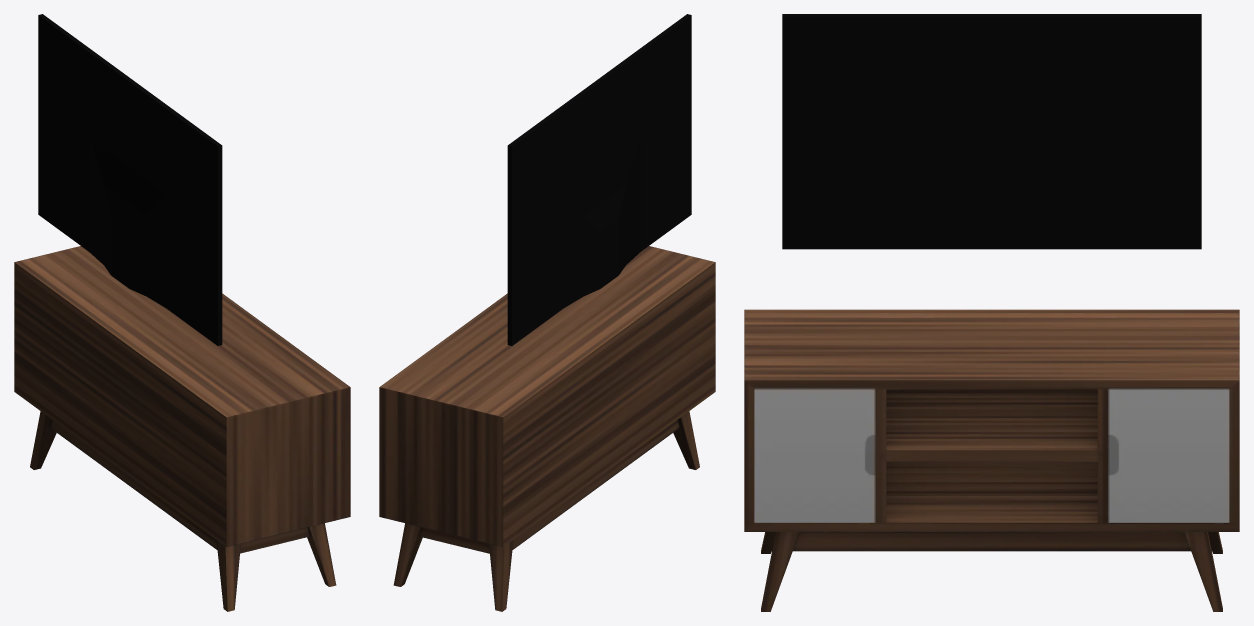
File: tv_stand03.glb
3 views of the same model, side by side, from view 1: azimuth 30°, elevation 25°; view 2: azimuth 150°, elevation 25°; view 3: azimuth 270°, elevation 25° (orthographic). The views are drawn at different scales.
Visible parts, largest first — view 1: tv_stand03; view 2: tv_stand03; view 3: tv_stand03.
Part boxes in pixels (<box>): tv_stand03: <box>14,14,350,611</box>; tv_stand03: <box>379,14,715,611</box>; tv_stand03: <box>744,14,1239,611</box>.
Bounding box in the file's own units: 0.3118 × 1.1 × 0.9227.
1 material, 1 textured.
